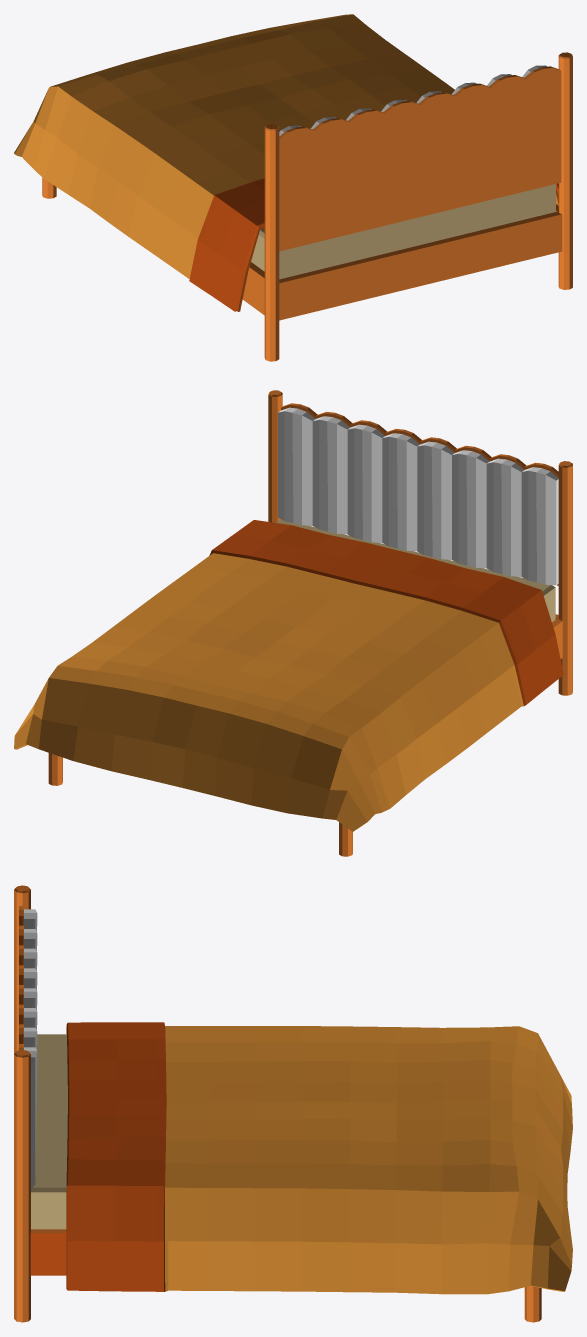
File: Bed 3.fbx
3 renders of one model, top to bottom at view 1: azimuth 30°, elevation 25°; view 2: azimuth 150°, elevation 25°; view 3: azimuth 270°, elevation 25°, orthographic. The views are drawn at different scales.
Visible parts, largest first — view 1: Node 0; view 2: Node 0; view 3: Node 0.
Boxes of the visible parts, x1,y1,x2,y2 form: Node 0: [14, 14, 572, 361]; Node 0: [14, 390, 572, 856]; Node 0: [14, 885, 572, 1322].
Size of the model in its own units: 3.18 by 1.67 by 2.7.
